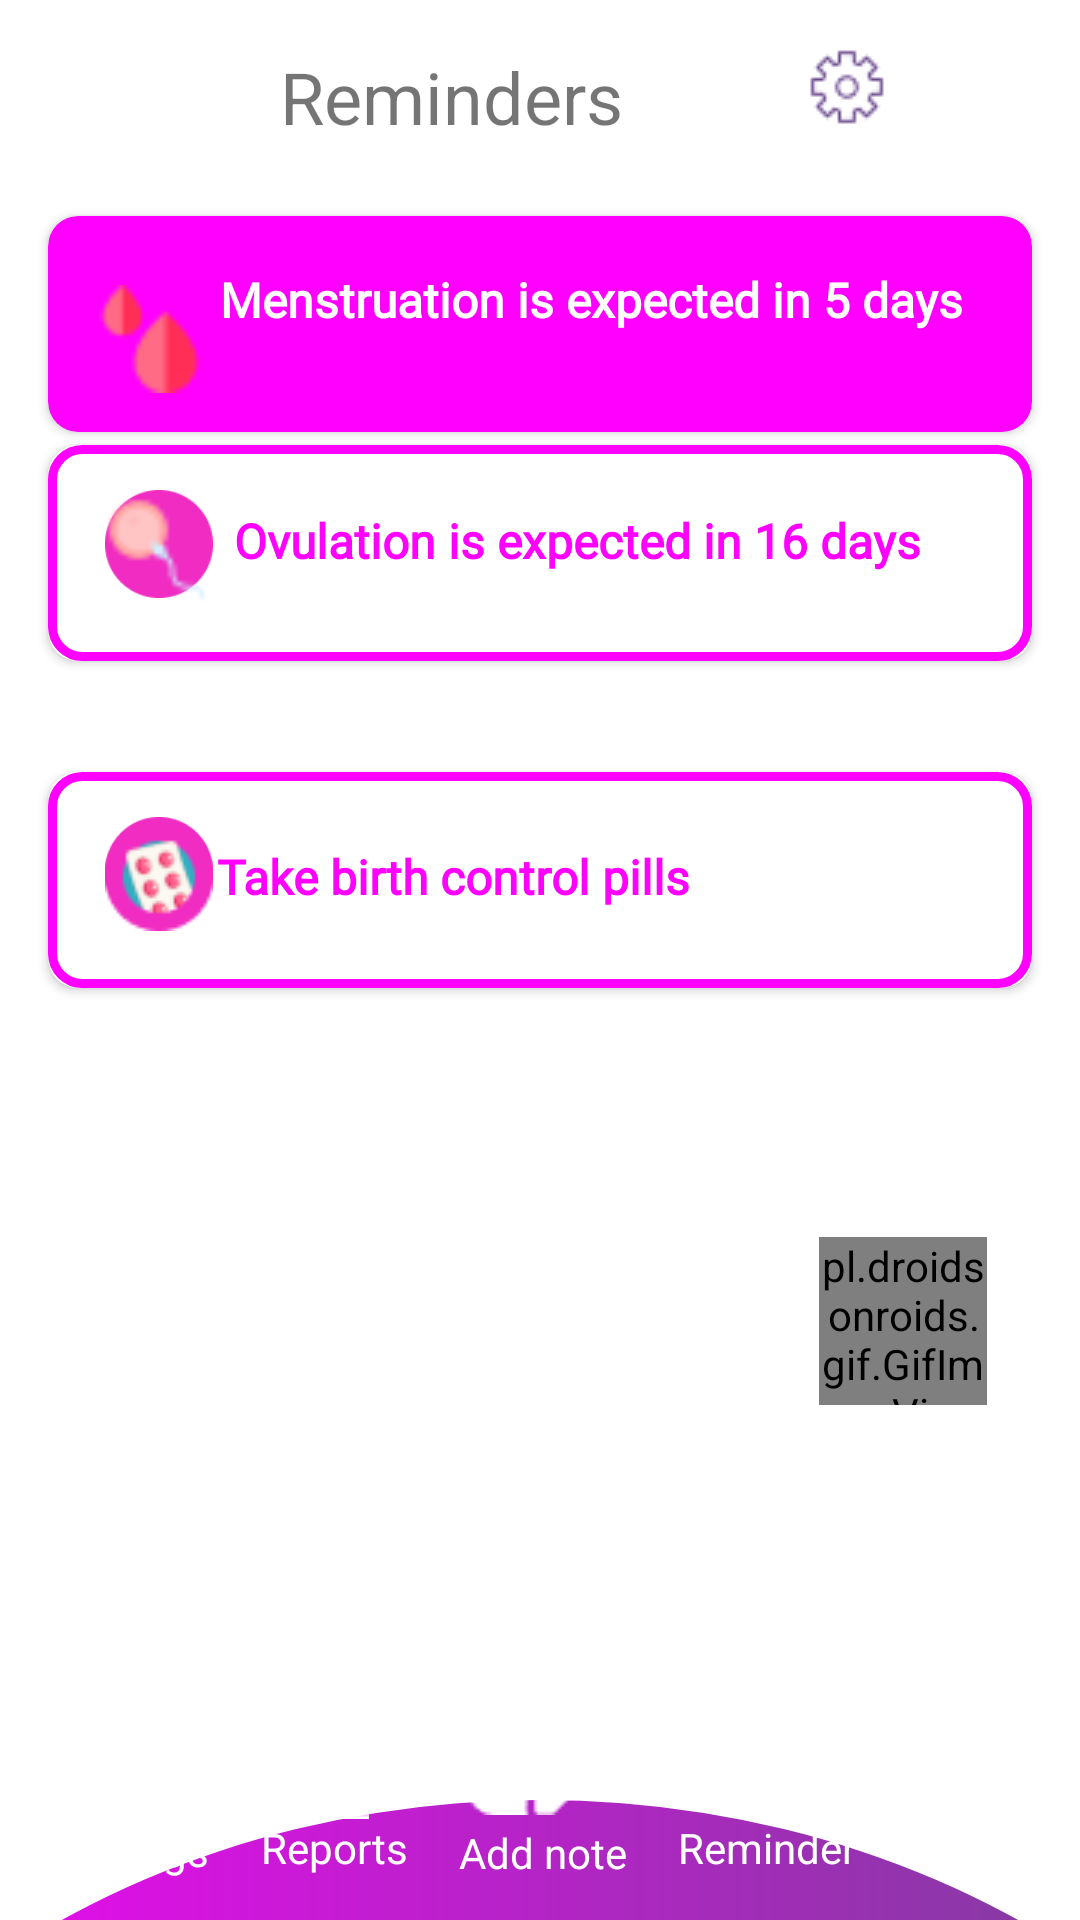

Icons on this 1080*1920 Android screen, each with the point to tap as point (x, y):
fertilization: point (159, 547)
mesntruation: point (150, 339)
setting: point (847, 87)
